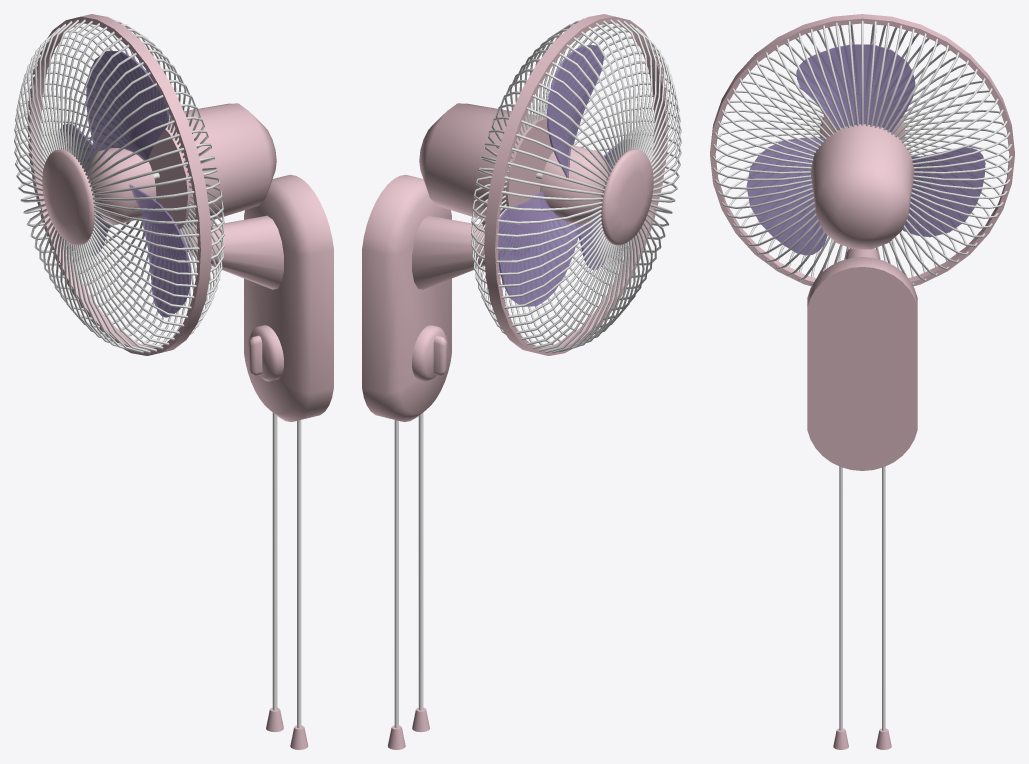
File: wallfan.fbx
The picture shows the model from 3 angles, left to right: view 1: azimuth 30°, elevation 25°; view 2: azimuth 150°, elevation 25°; view 3: azimuth 270°, elevation 25°; orthographic projection. The views are drawn at different scales.
Visible parts, largest first — view 1: 首.002, 台座, ファン, ツマミ; view 2: 首.002, 台座, ファン, ツマミ; view 3: 首.002, 台座, ファン.
Boxes of the visible parts, bbox=[...] form: 首.002: bbox=[14, 14, 276, 355]; 台座: bbox=[189, 174, 333, 749]; ファン: bbox=[59, 50, 190, 317]; ツマミ: bbox=[248, 325, 283, 381]; 首.002: bbox=[419, 14, 681, 355]; 台座: bbox=[362, 174, 484, 749]; ファン: bbox=[498, 45, 633, 306]; ツマミ: bbox=[412, 325, 447, 381]; 首.002: bbox=[710, 14, 1014, 286]; 台座: bbox=[807, 248, 917, 749]; ファン: bbox=[746, 44, 985, 255].
Bounding box in the file's own units: 30.55 × 91.22 × 38.26.
